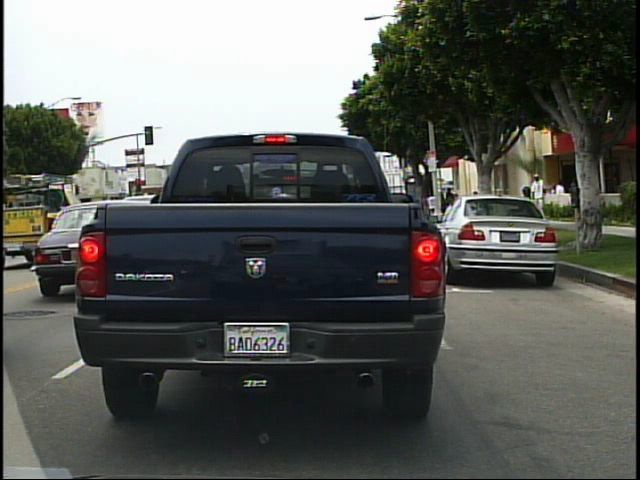person: (530, 167, 553, 218), (549, 176, 572, 222), (442, 184, 461, 222), (566, 175, 582, 201)
